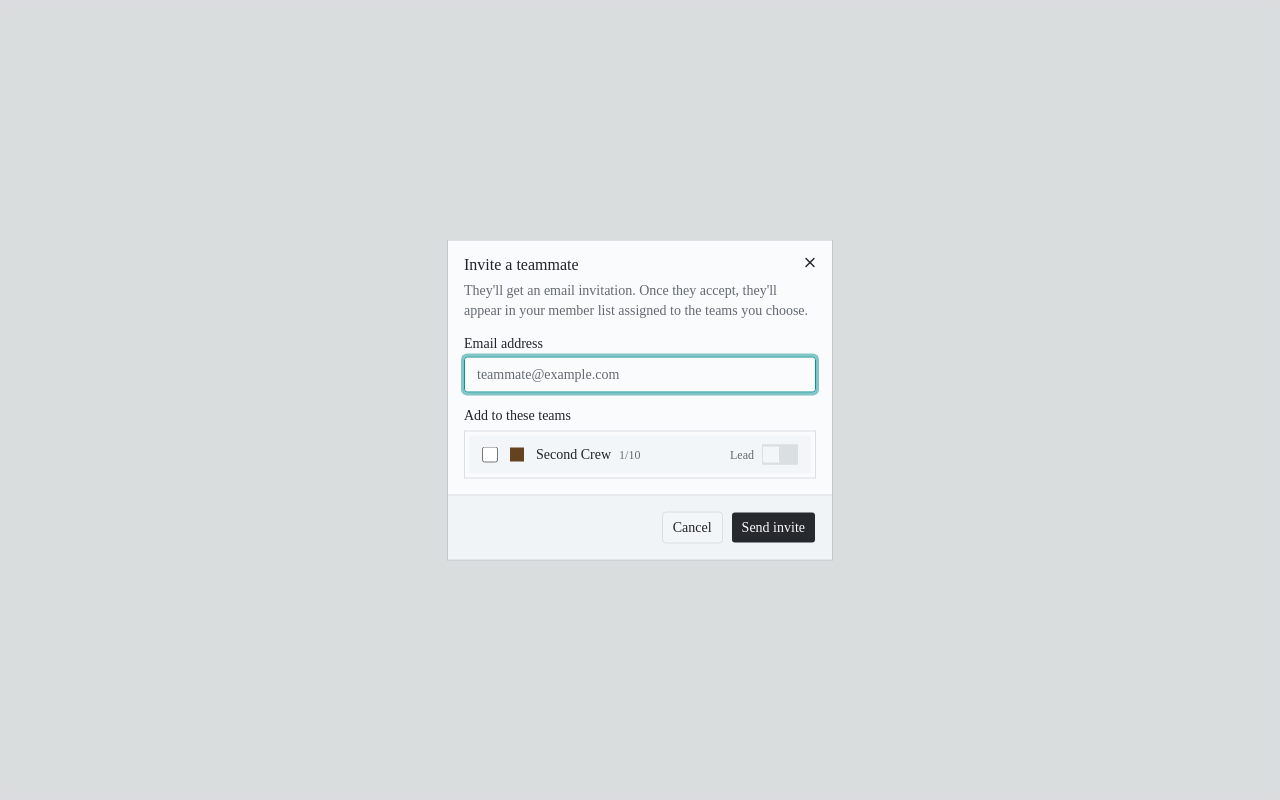
Scenario: InviteForm › selects a team when enabling its lead toggle
Expected: the checkbox labelled "Second Crew1/10" is not checked, [482,446,498,462]
Click the switch named "Lead" at (780, 454), box [762,444,798,464]
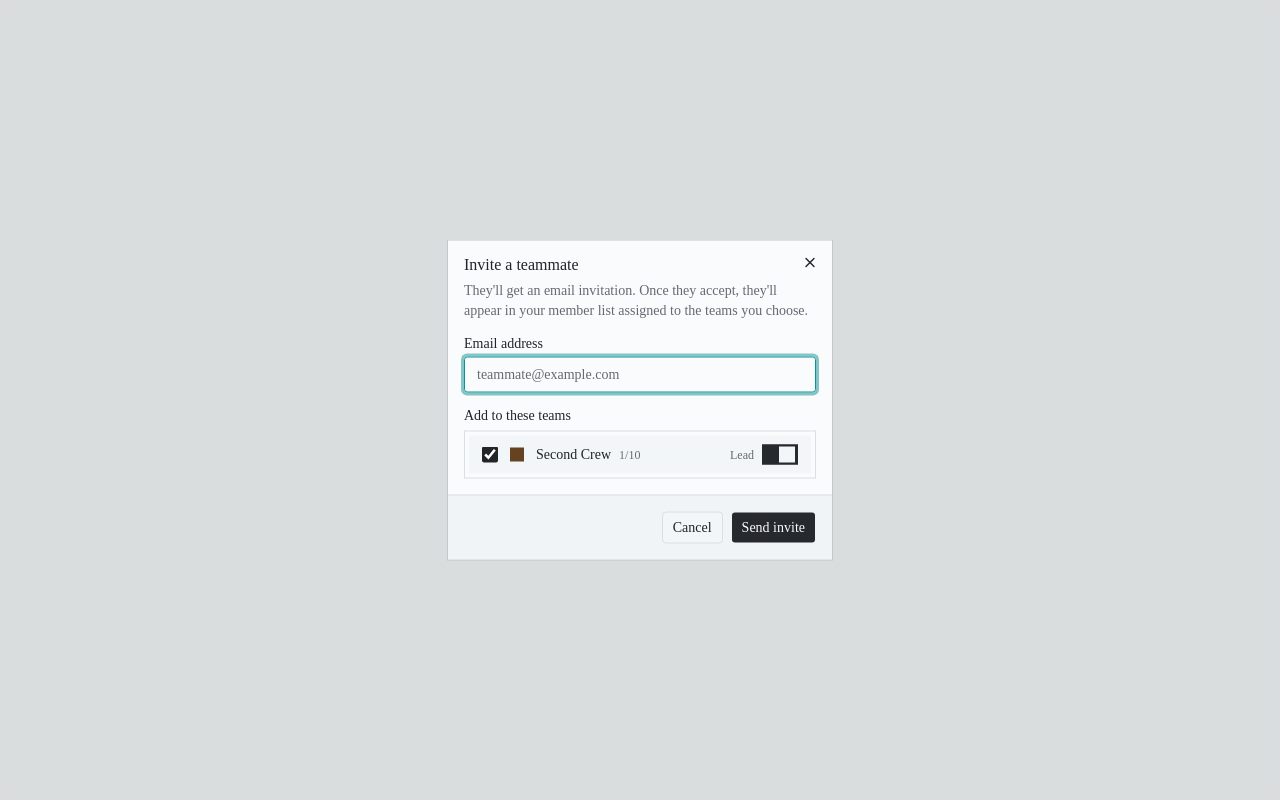
Expected: the checkbox labelled "Second Crew1/10" is checked, [482,446,498,462]
